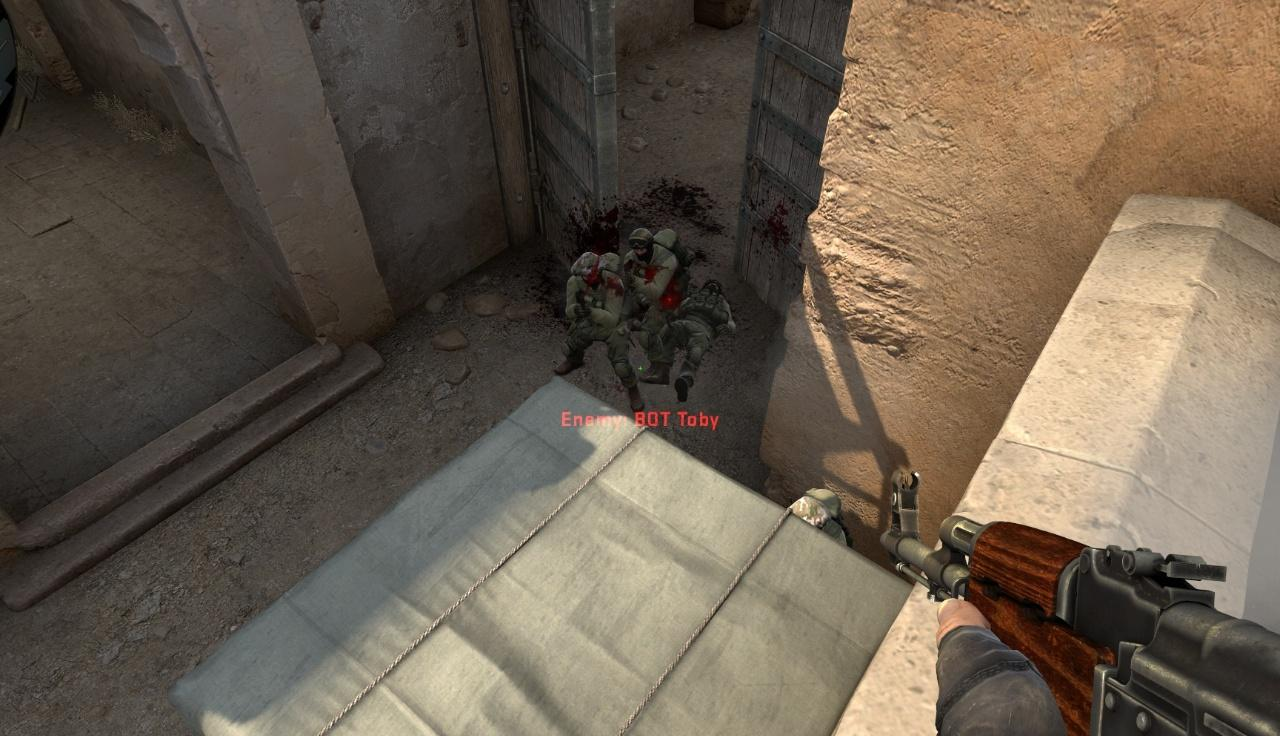ct: (564, 254, 626, 379), (629, 227, 678, 344), (790, 484, 846, 544)
cthead: (573, 252, 607, 289), (630, 229, 654, 261)
rifle: (884, 458, 1280, 736)
